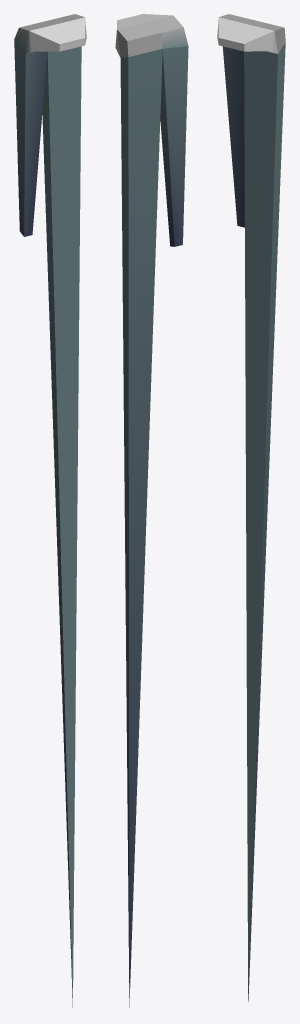
File: decoration_spiderweb04.fbx
3 views of the same model, side by side, from view 1: azimuth 30°, elevation 25°; view 2: azimuth 210°, elevation 25°; view 3: azimuth 330°, elevation 25° (orthographic).
Parts seen in each view (by area): view 1: spiderweb04; view 2: spiderweb04; view 3: spiderweb04.
Part boxes in pixels (x1=…): spiderweb04: x1=14, y1=14, x2=86, y2=1007; spiderweb04: x1=115, y1=14, x2=188, y2=1007; spiderweb04: x1=217, y1=14, x2=285, y2=1001.
Bounding box in the file's own units: 41.13 × 690 × 39.97.
